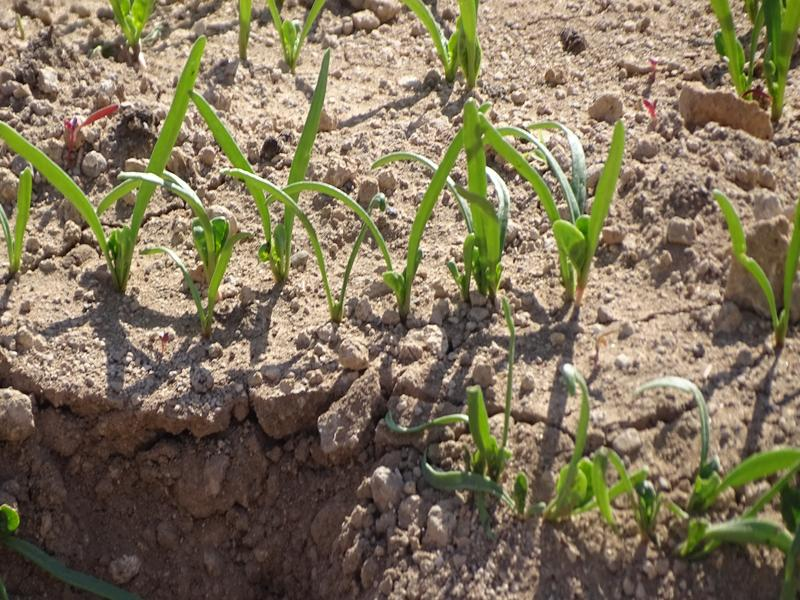Espinaca: (2, 88, 634, 316), (383, 350, 536, 513), (657, 384, 789, 553), (553, 364, 648, 521), (718, 183, 800, 343), (719, 3, 797, 129), (414, 2, 484, 89), (262, 1, 325, 51), (114, 1, 159, 49), (234, 1, 256, 54)
